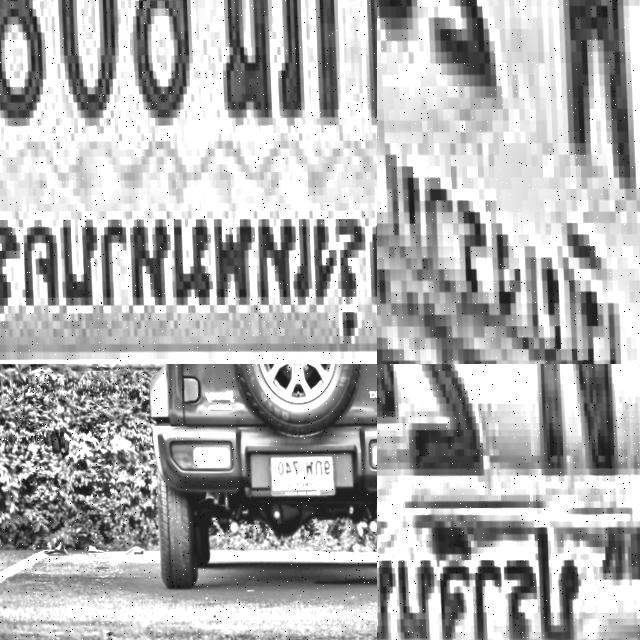license-plate: (0, 0, 377, 364), (377, 0, 640, 364), (377, 364, 640, 640), (266, 449, 334, 500)
